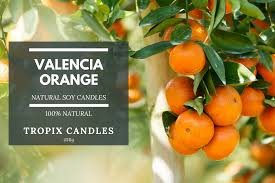orange: (205, 83, 241, 128), (159, 73, 198, 113), (178, 108, 215, 147), (202, 124, 242, 160), (167, 42, 206, 75)
